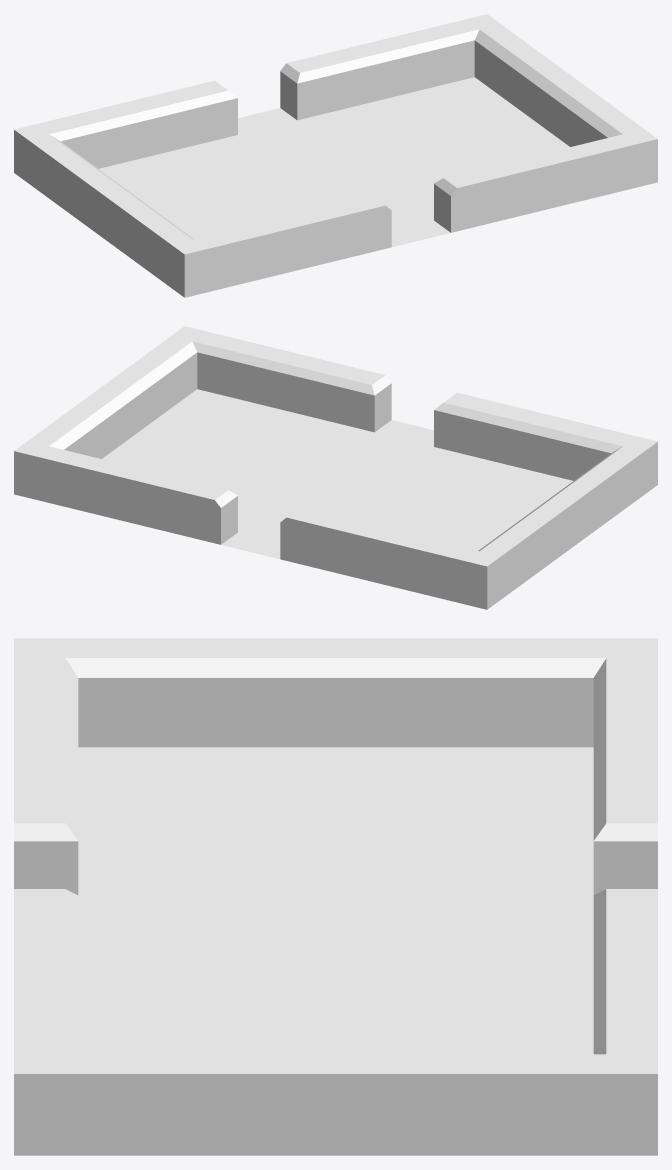
File: Room01.obj
3 renders of one model, top to bottom at view 1: azimuth 30°, elevation 25°; view 2: azimuth 150°, elevation 25°; view 3: azimuth 270°, elevation 25°, orthographic. The views are drawn at different scales.
Visible parts, largest first — view 1: room0x1; view 2: room0x1; view 3: room0x1.
Boxes of the visible parts, x1,y1,x2,y2 form: room0x1: [14, 14, 657, 297]; room0x1: [14, 326, 657, 609]; room0x1: [14, 638, 657, 1155].
Size of what is drawn, in the model's own units: 80 by 7 by 50.
